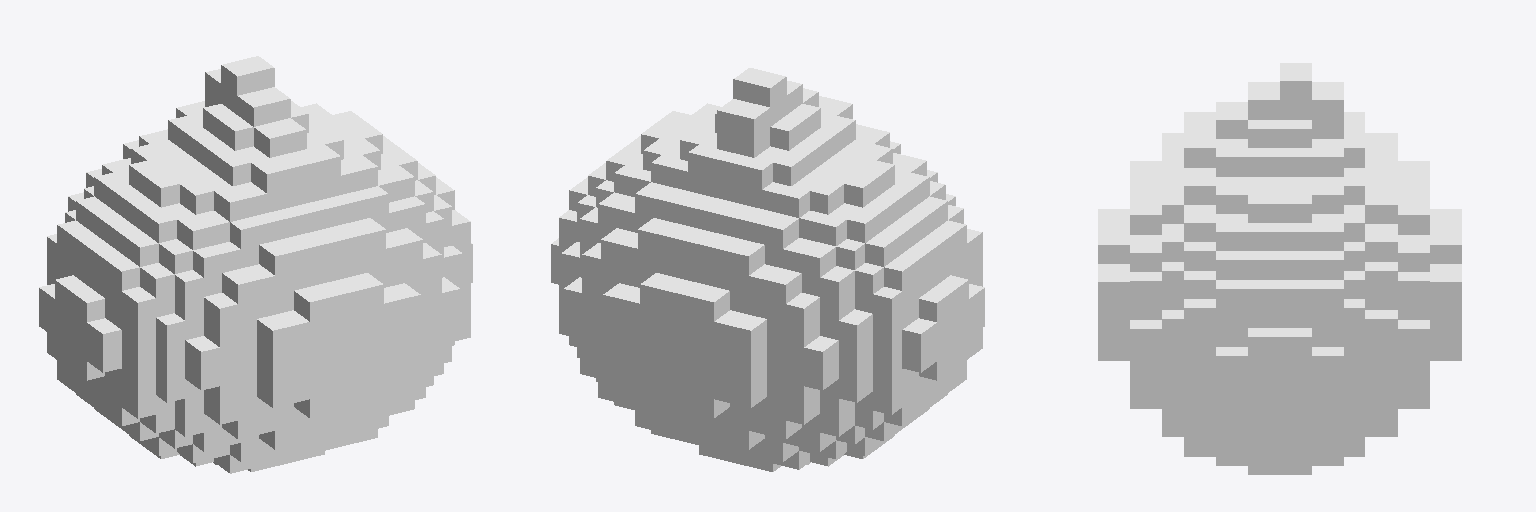
The model's file is tomato_hiroppe.vox.obj.
3 views of the same model, side by side, from view 1: azimuth 30°, elevation 25°; view 2: azimuth 150°, elevation 25°; view 3: azimuth 270°, elevation 25° (orthographic).
Visible parts, largest first — view 1: object 1; view 2: object 1; view 3: object 1.
Boxes of the visible parts, box(x1,y1,x2,y2) form: object 1: box(39, 56, 472, 473); object 1: box(551, 68, 984, 471); object 1: box(1098, 63, 1461, 474).
Size of the model in its own units: 4 by 3.8 by 3.4.